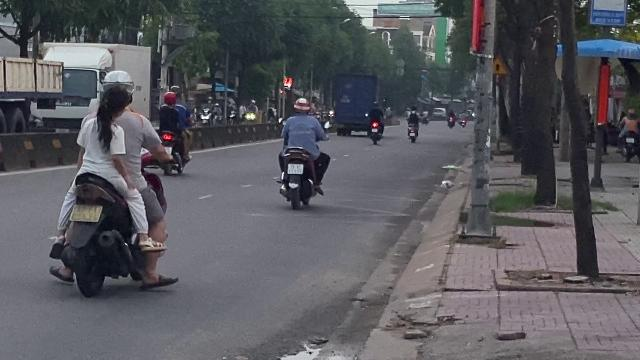helmet: (100, 69, 134, 93), (292, 98, 310, 114)
licenseplate: (72, 206, 100, 221), (288, 163, 302, 173)
motorcyclist: (48, 64, 174, 298), (274, 98, 328, 208)
nohelmet: (97, 86, 133, 120)
